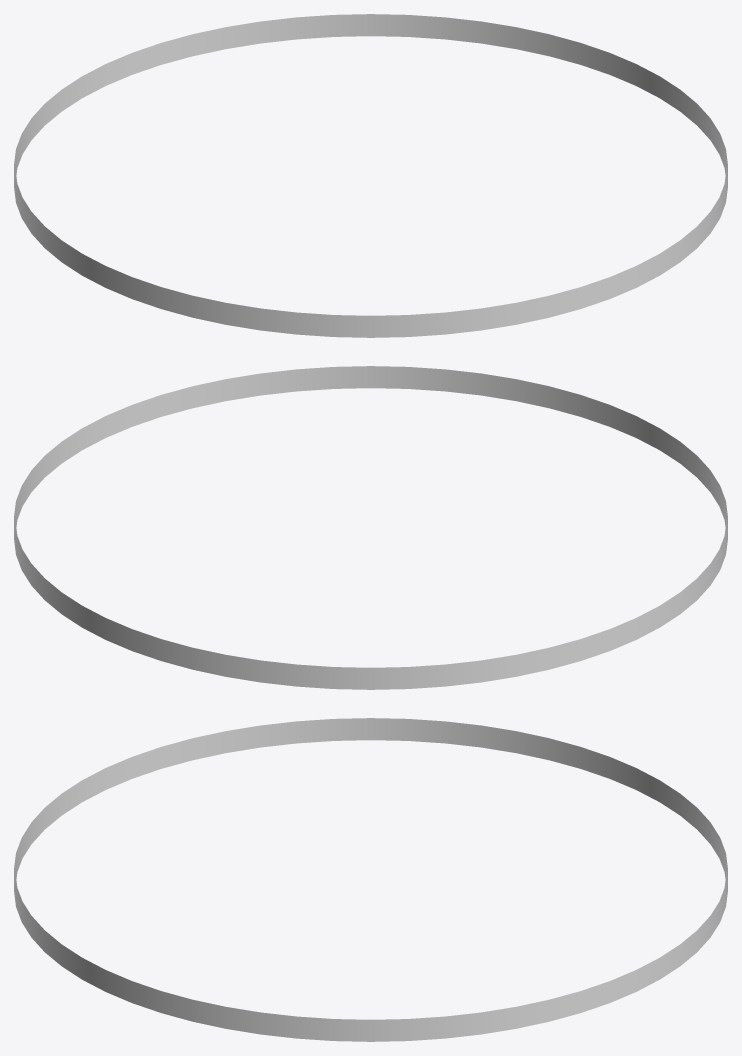
The model's file is Neon_Ring_01.FBX.
The picture shows the model from 3 angles, top to bottom: view 1: azimuth 30°, elevation 25°; view 2: azimuth 150°, elevation 25°; view 3: azimuth 270°, elevation 25°; orthographic projection.
Parts seen in each view (by area): view 1: Neon_Ring_01; view 2: Neon_Ring_01; view 3: Neon_Ring_01.
Boxes of the visible parts, x1,y1,x2,y2 form: Neon_Ring_01: [14, 14, 727, 337]; Neon_Ring_01: [14, 366, 727, 689]; Neon_Ring_01: [14, 718, 727, 1041].
Size of the model in its own units: 2.05 by 0.07 by 2.05.
Materials: 1 (1 with a texture image).
